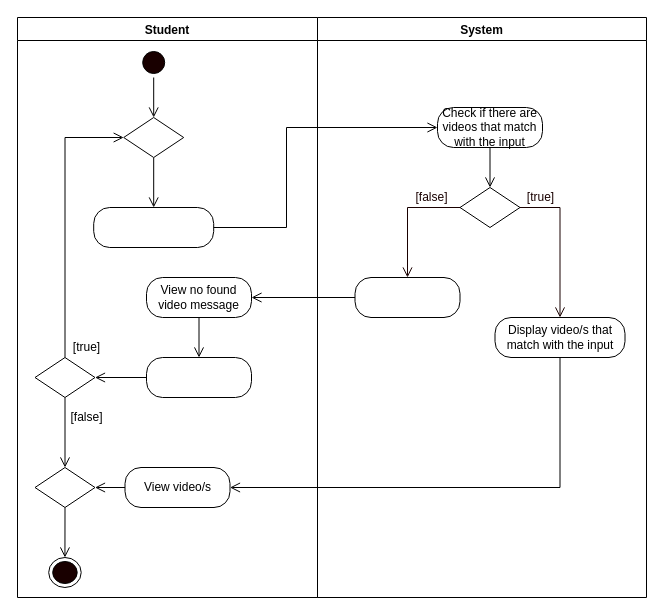
Some shapes in this 664 by 615 pixel diagram are drawn without their labels. The shapes that lost their labels are listed below. From the top down, each one's centre as x and y in pixels, then its label:
At point (153, 227): "Input title/keywords in search bar".
At point (407, 297): "Show no found video message".
At point (199, 377): "Search again".
